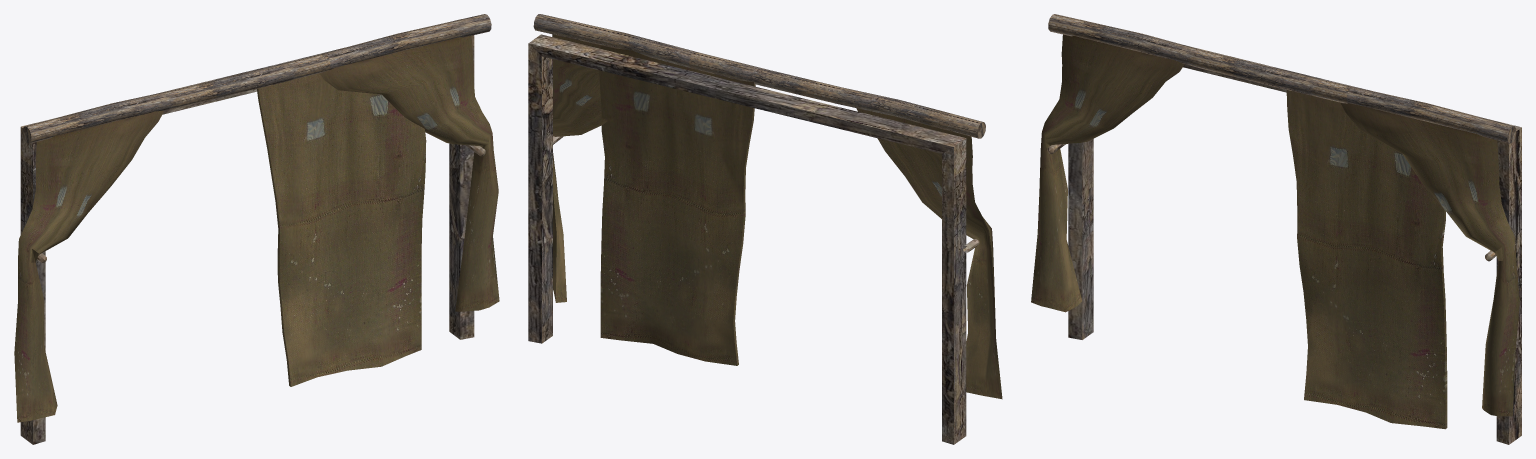
Rendered from curtain.dae.
3 views of the same model, side by side, from view 1: azimuth 30°, elevation 25°; view 2: azimuth 150°, elevation 25°; view 3: azimuth 330°, elevation 25° (orthographic). The views are drawn at different scales.
Visible parts, largest first — view 1: matrixTransform_1, matrixTransform_4, matrixTransform_3, matrixTransform_2, matrixTransform; view 2: matrixTransform_1, matrixTransform, matrixTransform_3, matrixTransform_2, matrixTransform_4; view 3: matrixTransform_1, matrixTransform_4, matrixTransform_3, matrixTransform, matrixTransform_2.
Boxes of the visible parts, x1,y1,x2,y2 form: matrixTransform_1: (257,73,426,386); matrixTransform_4: (320,35,499,311); matrixTransform_3: (14,111,163,422); matrixTransform_2: (22,14,491,143); matrixTransform: (20,19,485,444); matrixTransform_1: (599,45,755,365); matrixTransform: (528,34,979,444); matrixTransform_3: (856,108,1002,399); matrixTransform_2: (533,14,985,138); matrixTransform_4: (552,34,607,302); matrixTransform_1: (1286,90,1447,429); matrixTransform_4: (1340,102,1519,416); matrixTransform_3: (1031,34,1184,312); matrixTransform: (1047,20,1521,444); matrixTransform_2: (1048,14,1516,143).
Bounding box in the file's own units: 4.09 × 0.4182 × 2.62.
2 materials, 2 textured.
